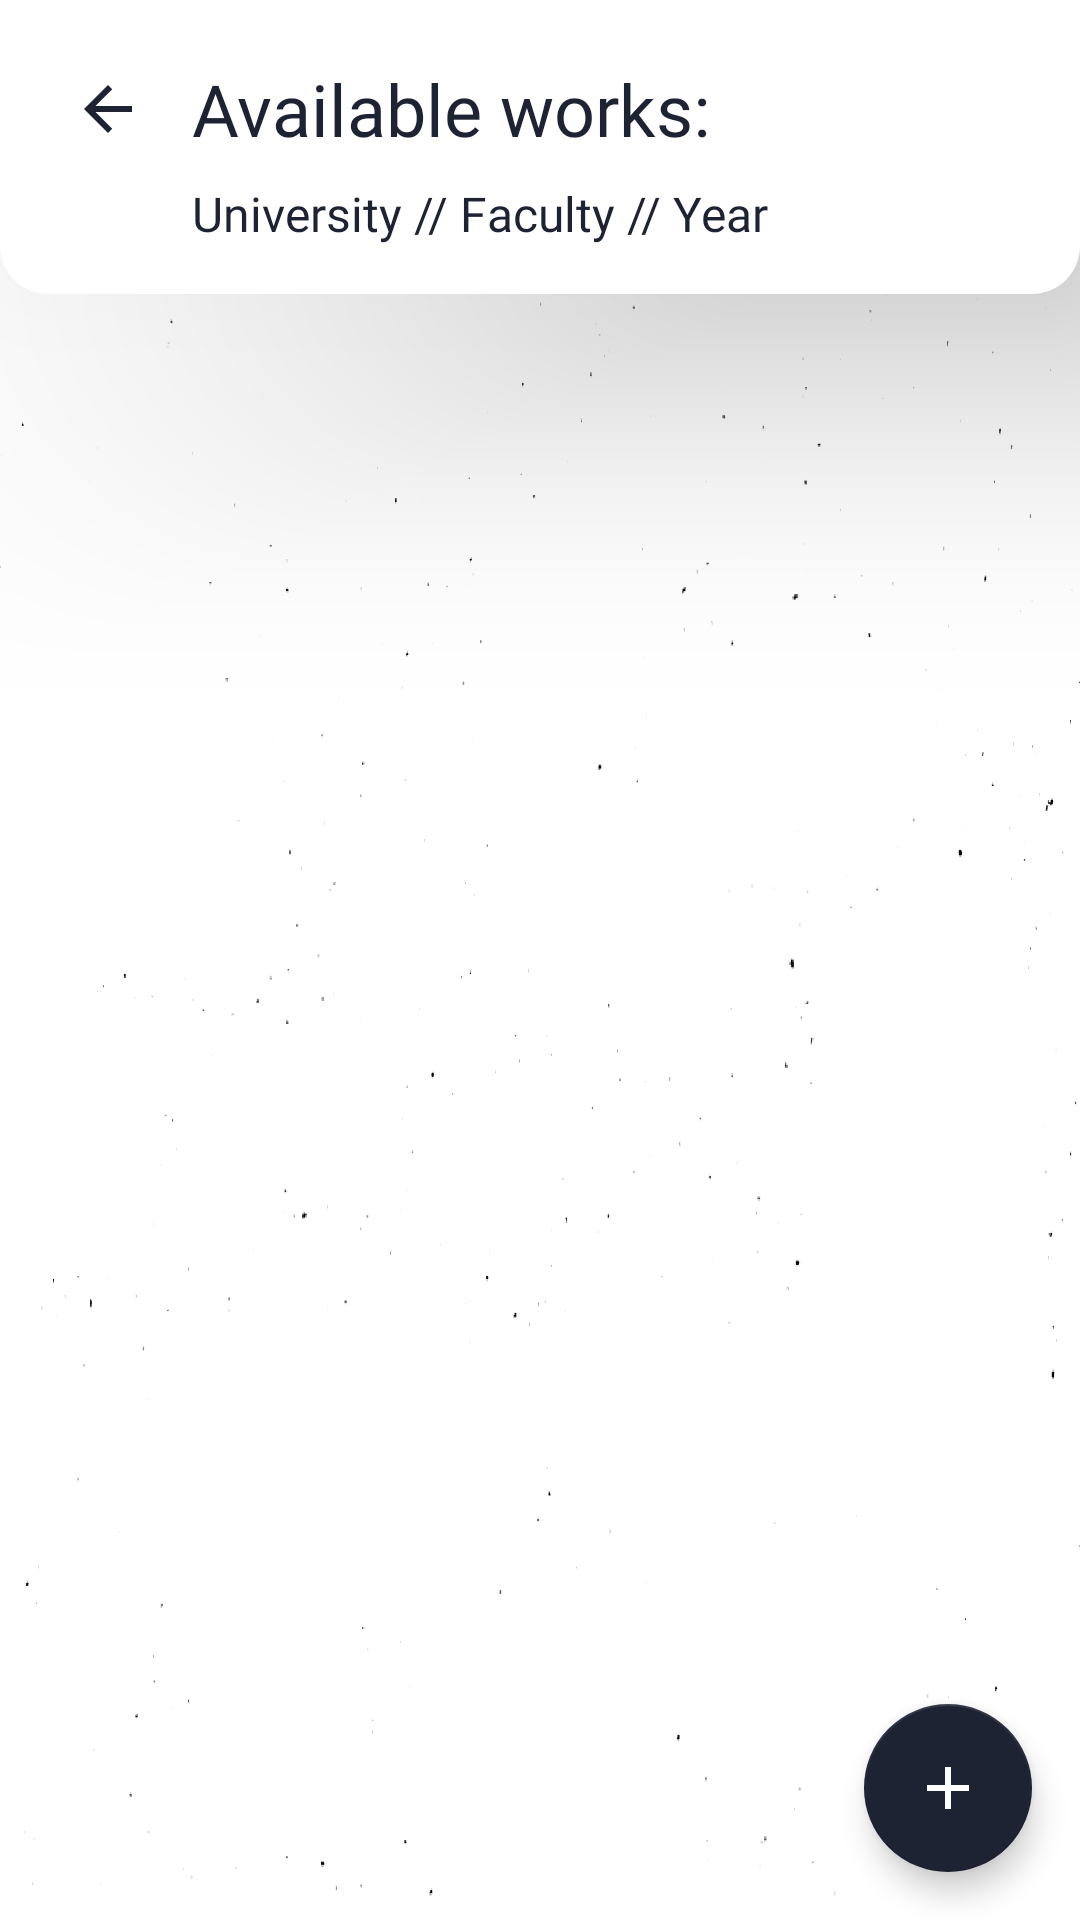

Icon bounding boxes for this 1080 x 1920 phone screenshot, format (x1, y1, x2, y2):
add: (864, 1704, 1032, 1872)
arrow back: (84, 85, 132, 133)
